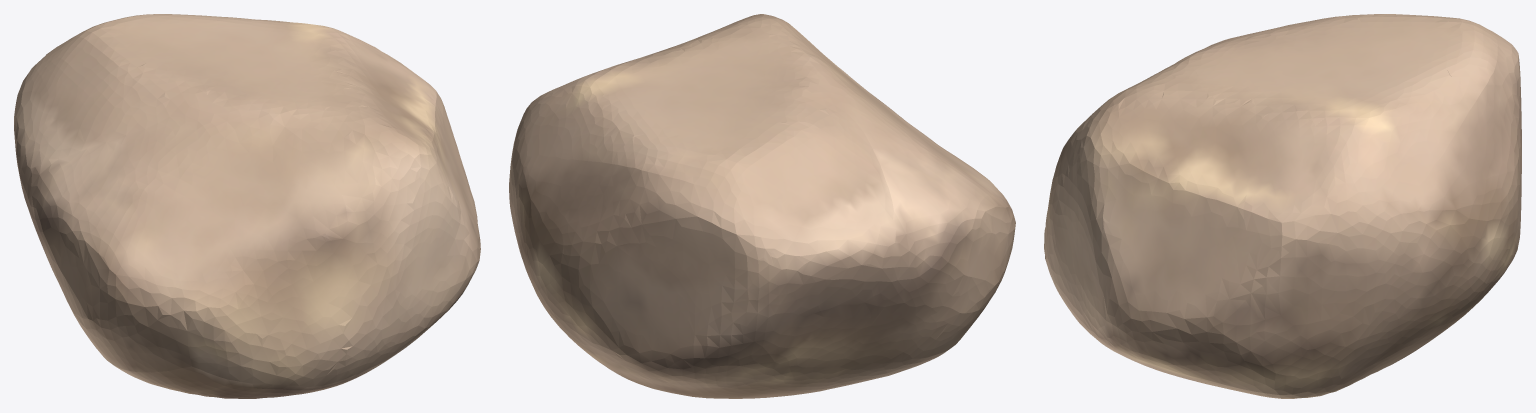
Rendered from Sten 1.fbx.
3 views of the same model, side by side, from view 1: azimuth 30°, elevation 25°; view 2: azimuth 150°, elevation 25°; view 3: azimuth 270°, elevation 25° (orthographic). The views are drawn at different scales.
Visible parts, largest first — view 1: Sten 1_Baked; view 2: Sten 1_Baked; view 3: Sten 1_Baked.
Part boxes in pixels (x1,y1,x2,y2): Sten 1_Baked: (14, 14, 480, 398); Sten 1_Baked: (509, 14, 1015, 398); Sten 1_Baked: (1044, 14, 1521, 398).
Bounding box in the file's own units: 19.55 × 12.05 × 19.05.
1 material, 1 textured.
